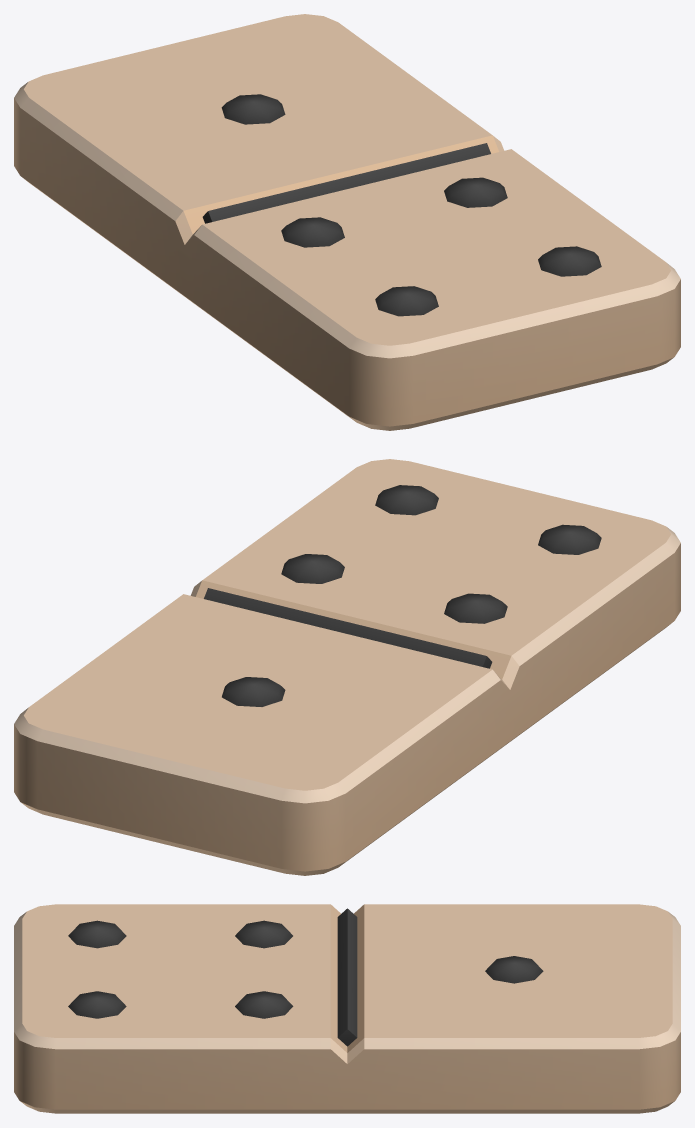
File: domino_tile_1-4.obj
3 renders of one model, top to bottom at view 1: azimuth 30°, elevation 25°; view 2: azimuth 150°, elevation 25°; view 3: azimuth 270°, elevation 25°, orthographic. The views are drawn at different scales.
Parts seen in each view (by area): view 1: domino_tile_1-4; view 2: domino_tile_1-4; view 3: domino_tile_1-4.
Part boxes in pixels (box(x1,y1,x2,y2)): domino_tile_1-4: box(14, 14, 680, 430); domino_tile_1-4: box(14, 459, 680, 875); domino_tile_1-4: box(14, 904, 680, 1113).
Size of the model in its own units: 1 by 0.2767 by 2.
Materials: 1 (1 with a texture image).
